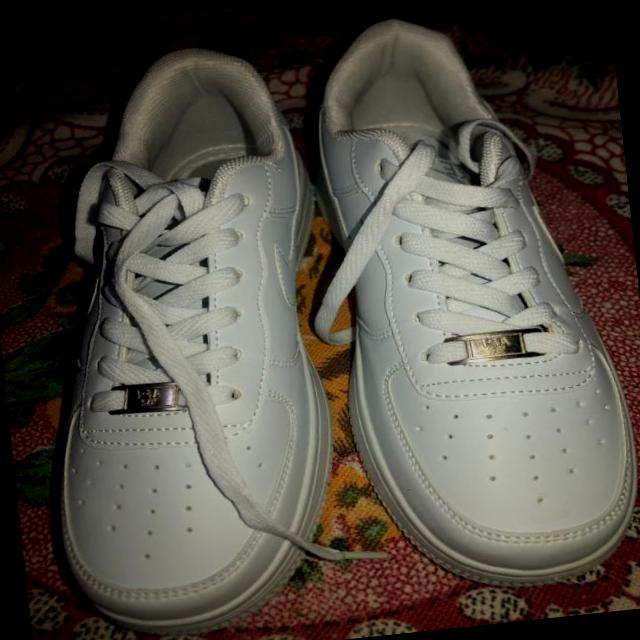nike_fake_airforce: (3, 35, 365, 640), (299, 0, 640, 605)
